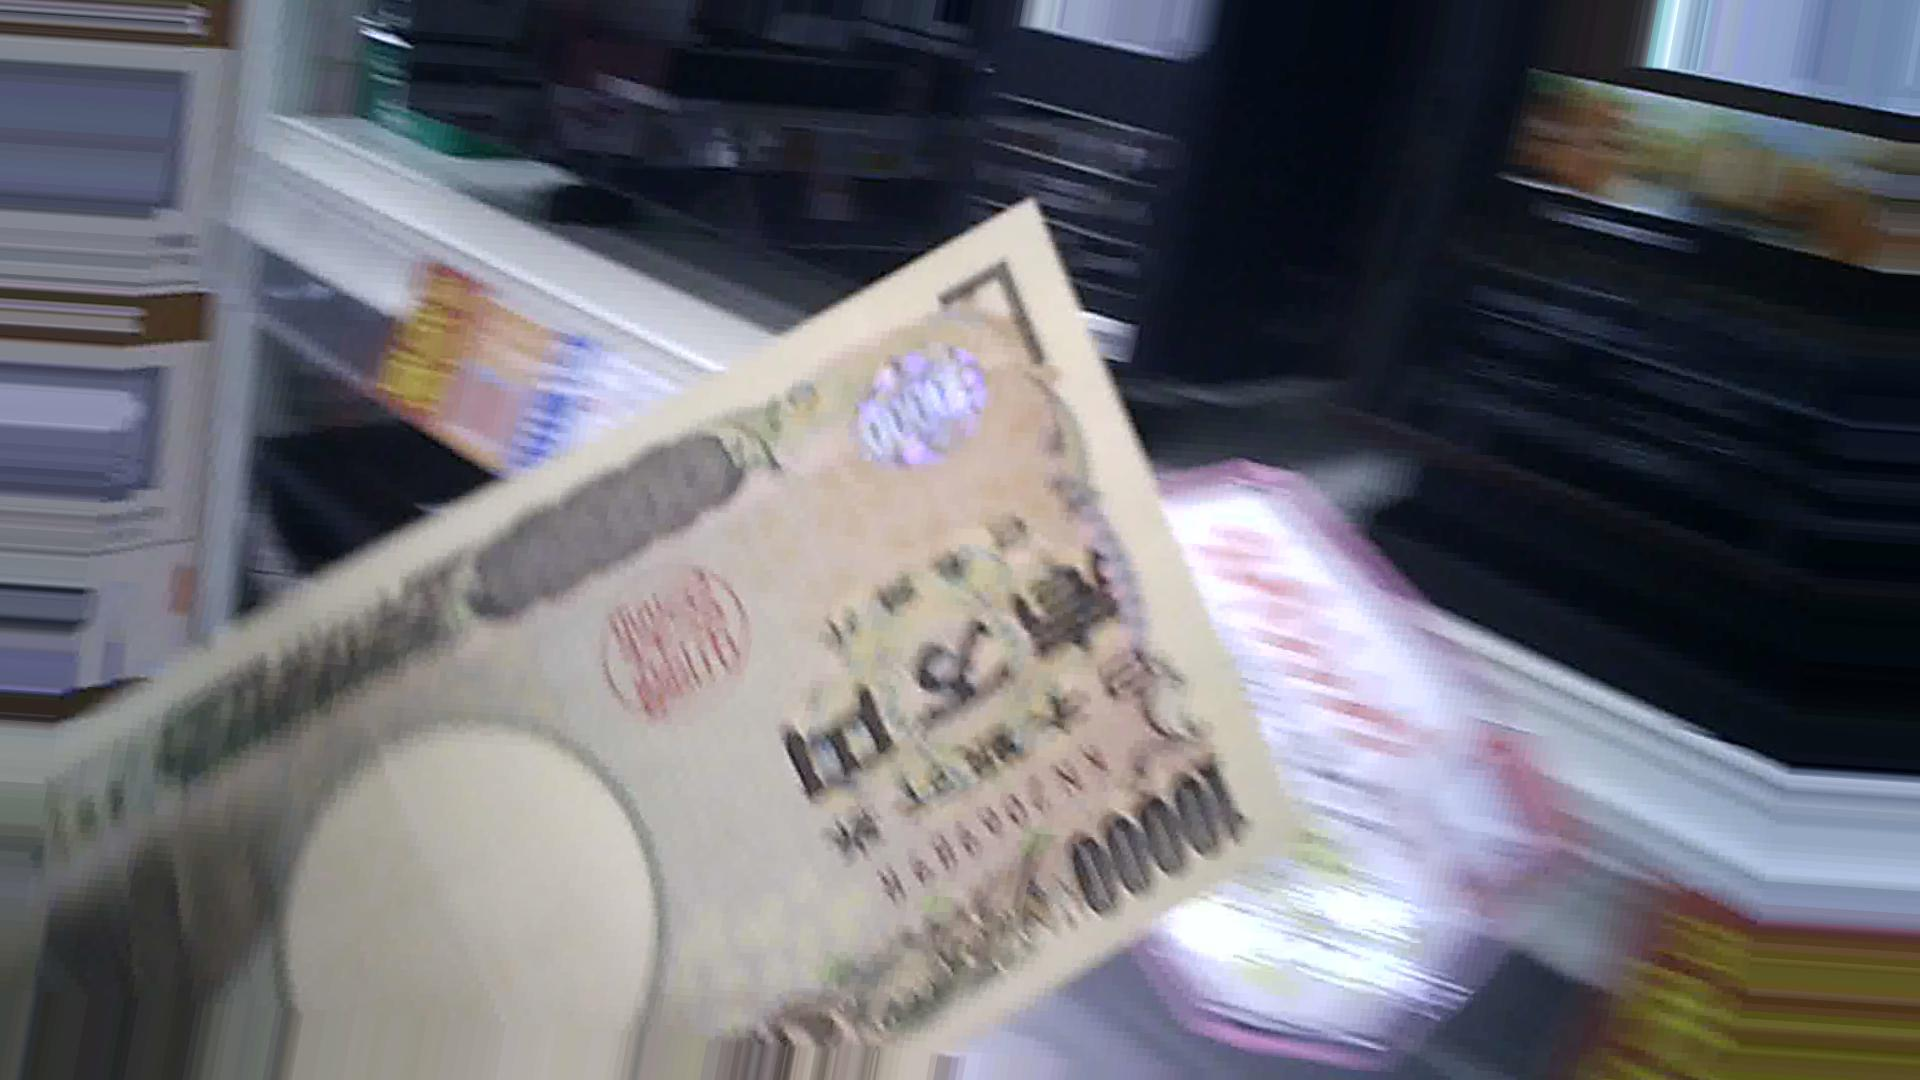10,000 Yen: (284, 216, 1284, 1034)
